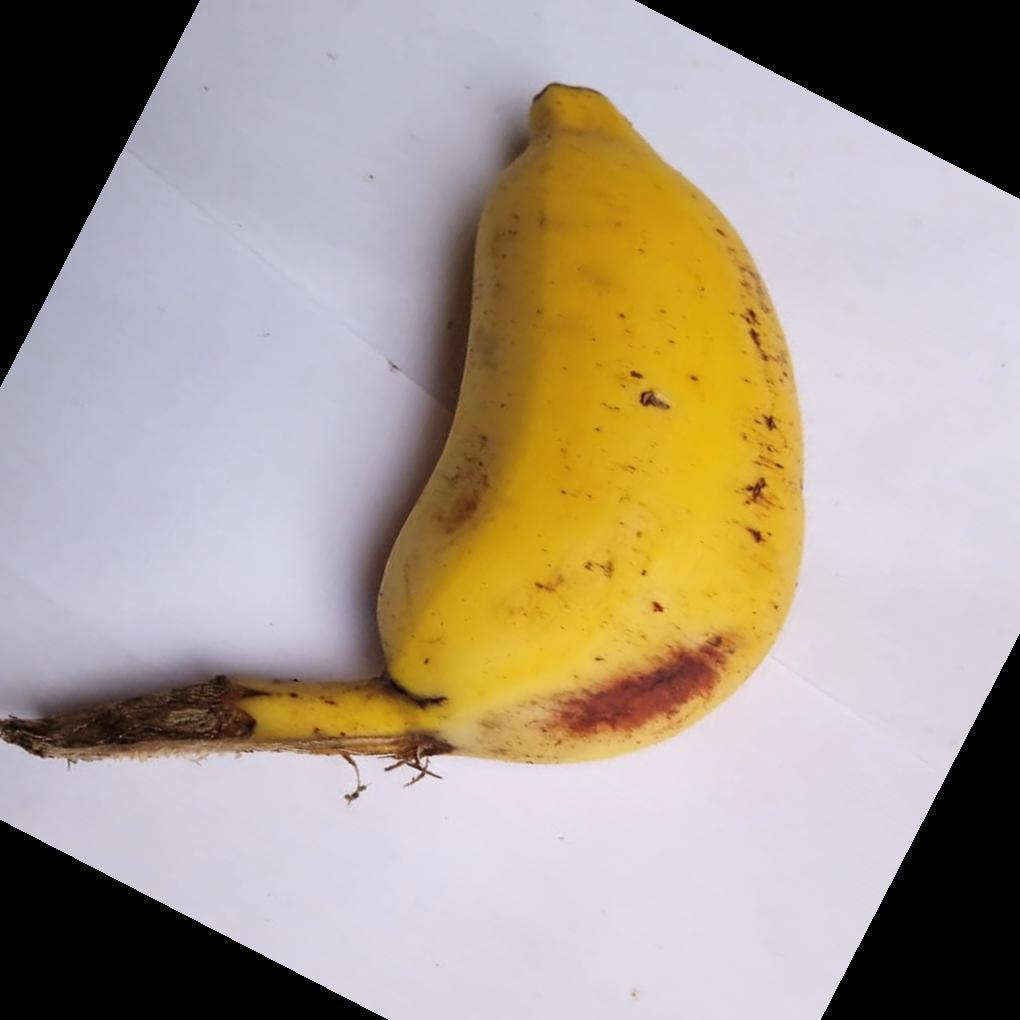Banana Ripe: (308, 63, 816, 813)
